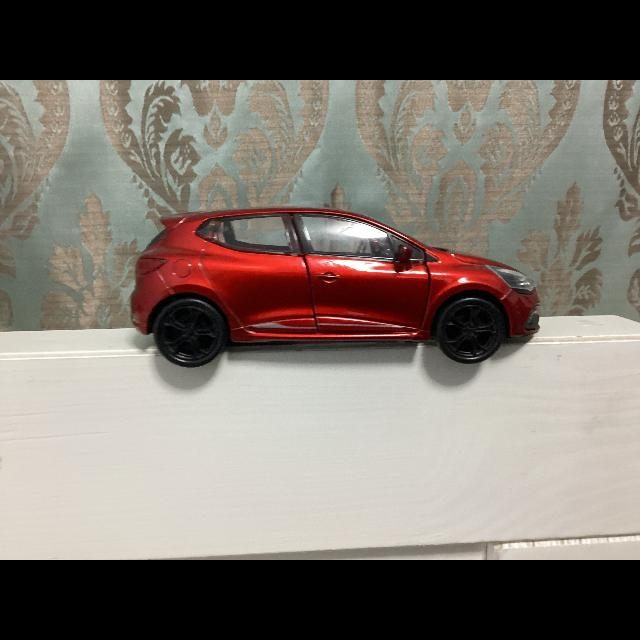Dogru_Jant: (164, 306, 218, 360), (444, 304, 496, 358)
